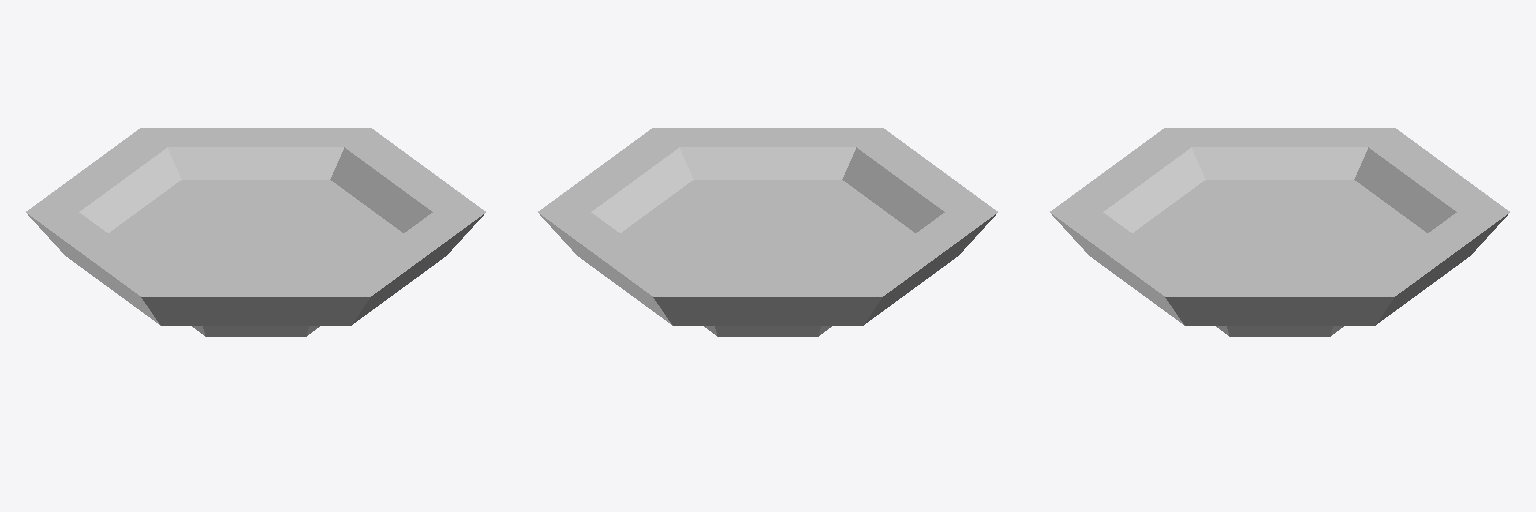
The model's file is soy.obj.
3 views of the same model, side by side, from view 1: azimuth 30°, elevation 25°; view 2: azimuth 150°, elevation 25°; view 3: azimuth 270°, elevation 25° (orthographic).
Visible parts, largest first — view 1: soy; view 2: soy; view 3: soy.
Boxes of the visible parts, x1,y1,x2,y2 form: soy: [26, 128, 485, 336]; soy: [538, 128, 997, 336]; soy: [1050, 128, 1509, 336].
Bounding box in the file's own units: 0.1653 × 0.04 × 0.1909.